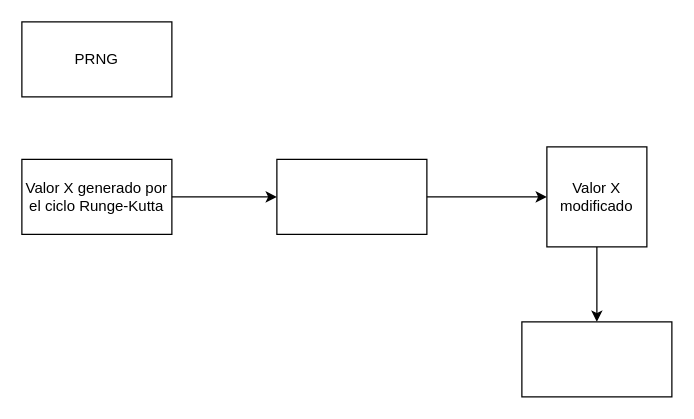
This 694x419 diagram has some shape labels left out. The shapes that lost their labels are listed below. From the top down, each one's box as (x1, y1, x2, y2) in pixels, then its label:
(276, 158, 427, 234): Multiplicamos por un valor escalar grande (10e6)
(521, 321, 672, 397): Cuantización del valor modificado. (Pasarlo a bits)
